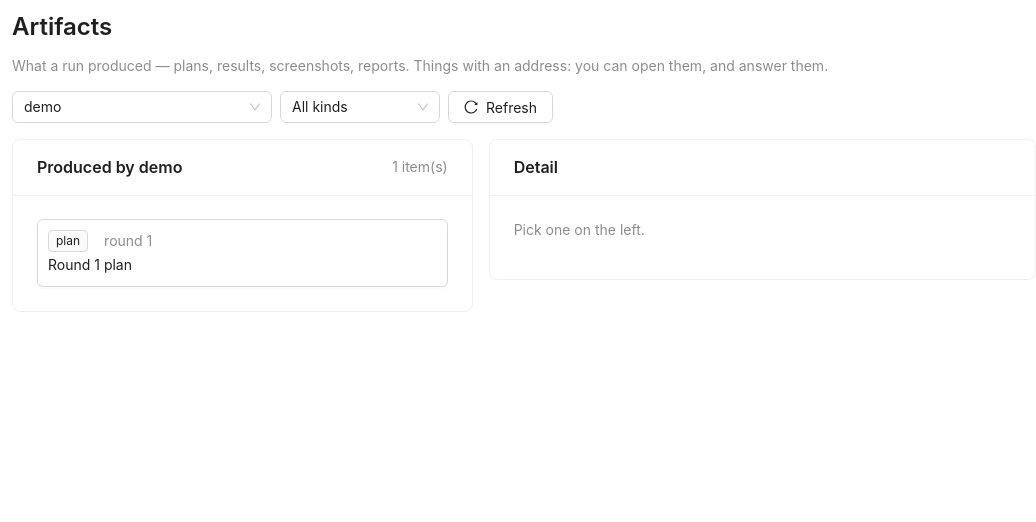
Test: Artifacts page (R3) › shows the body of the selected artifact
Click the button with test id "artifact-row-a1" at (68, 241), box x1=37 y1=219 x2=448 y2=287
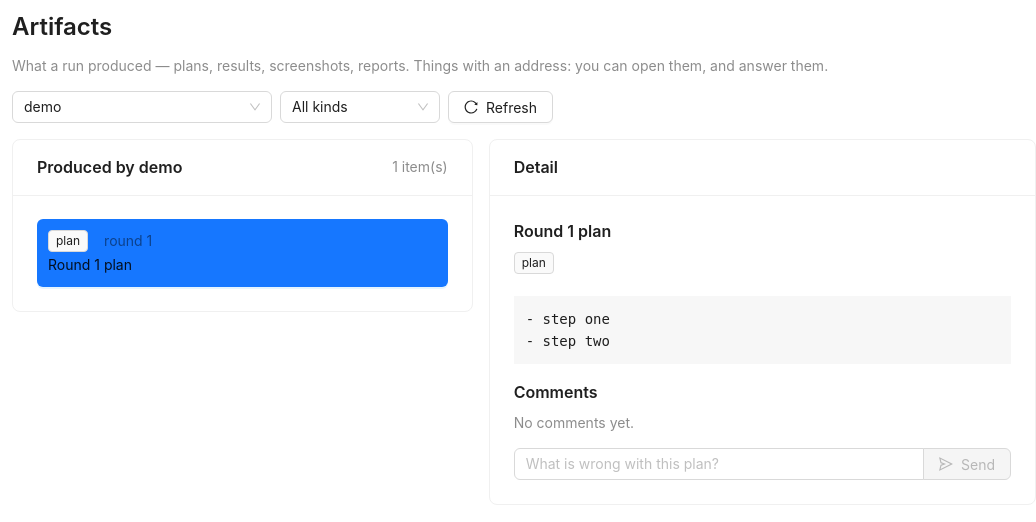
Check: the text "- step one - step two" is shown, box x1=514 y1=296 x2=1011 y2=364
Check: the text with test id "artifact-body" shows "- step one", box x1=526 y1=311 x2=610 y2=349
